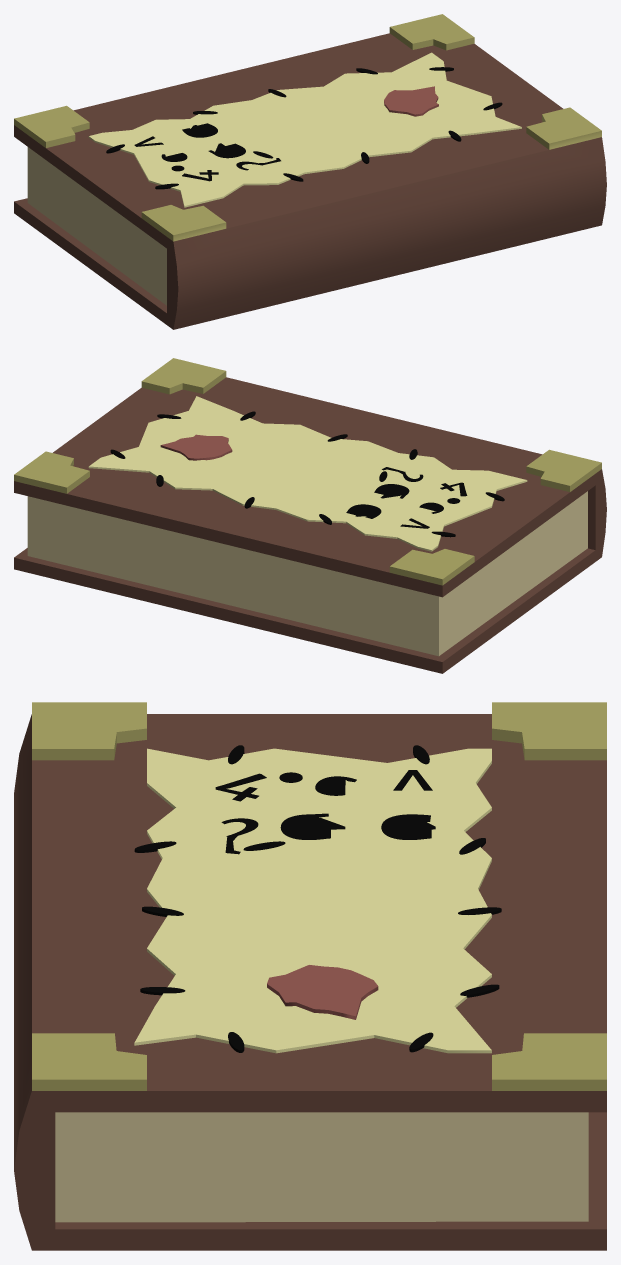
The model's file is Book of Heroic Tales.fbx.
3 renders of one model, top to bottom at view 1: azimuth 30°, elevation 25°; view 2: azimuth 150°, elevation 25°; view 3: azimuth 270°, elevation 25°, orthographic. The views are drawn at different scales.
Parts seen in each view (by area): view 1: Book, pCylinder12; view 2: Book, pCylinder12; view 3: Book, pCylinder12, polySurface15, polySurface14.
Part boxes in pixels (bbox=[...]): Book: bbox=[14, 14, 606, 329]; pCylinder12: bbox=[384, 86, 438, 116]; Book: bbox=[14, 358, 606, 673]; pCylinder12: bbox=[160, 434, 232, 460]; Book: bbox=[14, 702, 606, 1250]; pCylinder12: bbox=[267, 965, 378, 1019]; polySurface15: bbox=[280, 813, 345, 839]; polySurface14: bbox=[381, 814, 435, 839].
Size of the model in its own units: 3.81 by 0.8036 by 2.53.
